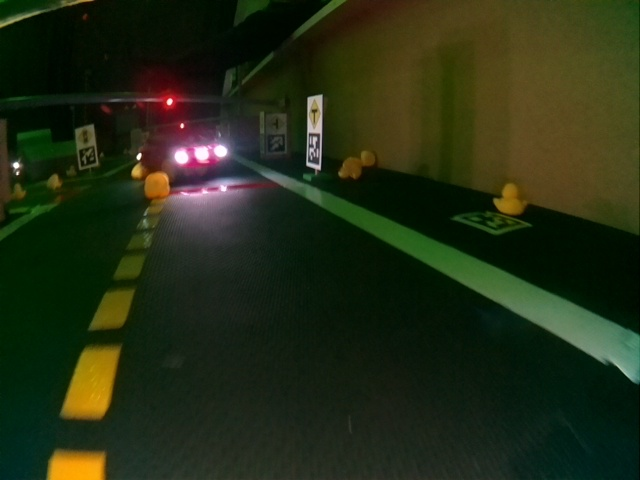Duckie: (495, 185, 524, 215), (144, 173, 167, 196), (339, 158, 361, 179), (359, 151, 375, 166), (132, 163, 147, 179), (10, 183, 26, 198), (48, 175, 62, 188)
Intersection sign: (307, 101, 321, 127), (268, 116, 285, 131)
QR code: (453, 212, 527, 234), (307, 133, 321, 166), (266, 134, 286, 153), (78, 147, 97, 164)
Signal sign: (77, 127, 95, 145)
Traffic light: (165, 98, 173, 108)
